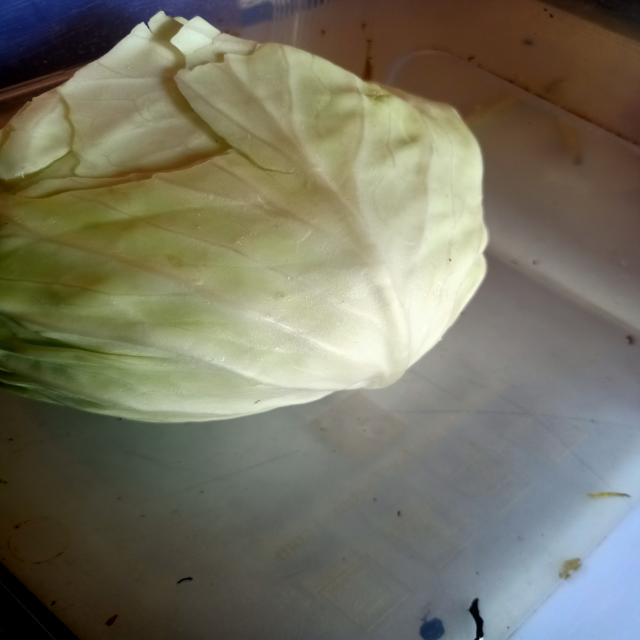Cabbage: (1, 9, 534, 462)
